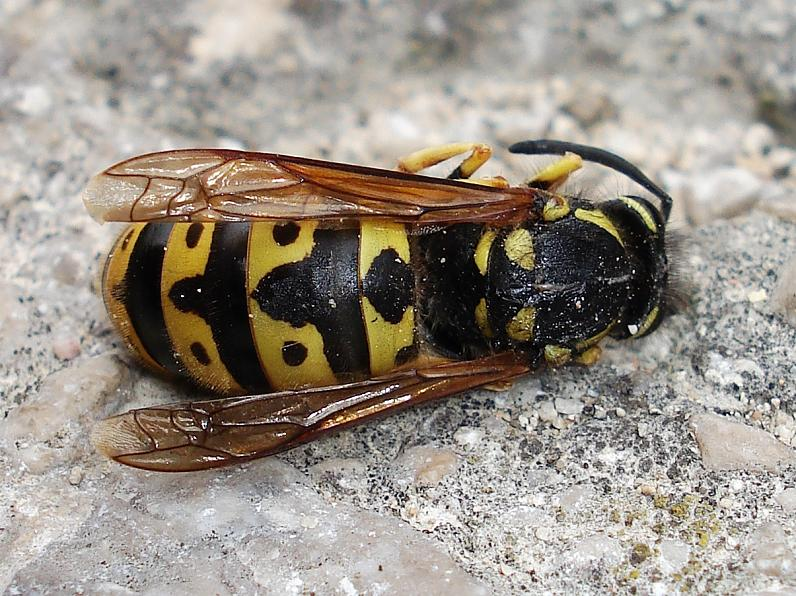chax: (50, 76, 756, 509)
